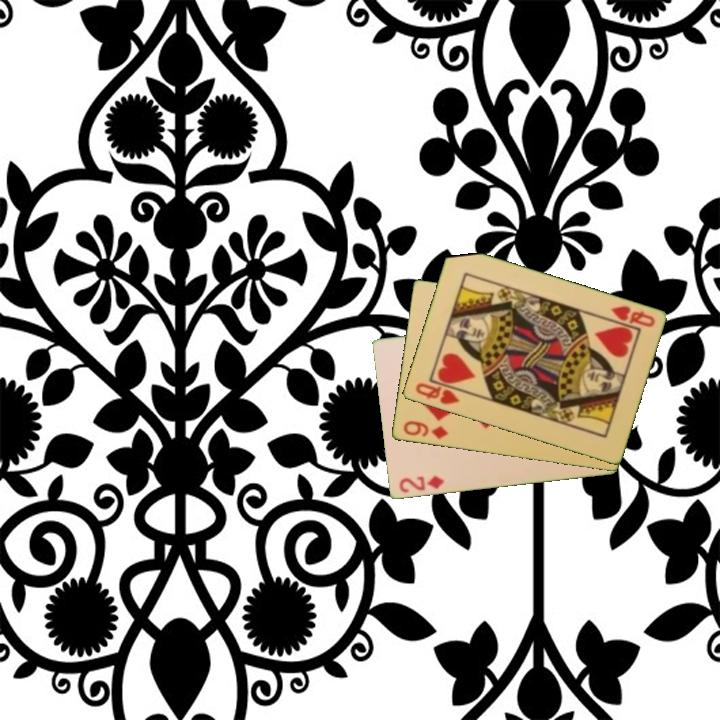2d: (395, 472, 446, 496)
9d: (399, 417, 451, 442)
Qh: (412, 379, 462, 408), (607, 302, 658, 330)
